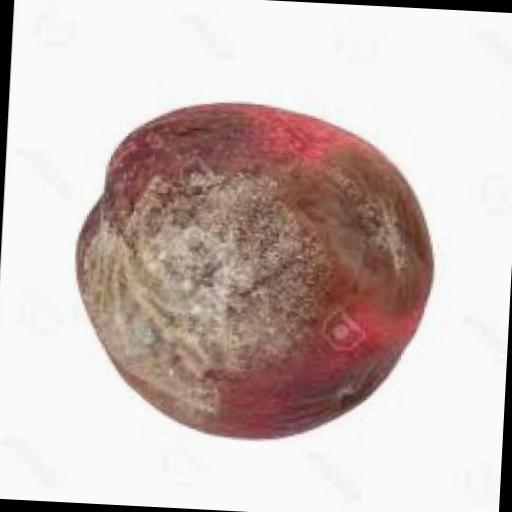biodegradable: (62, 98, 436, 452)
